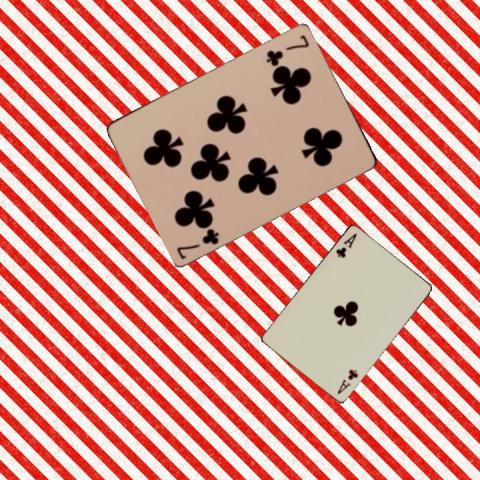7c: (262, 31, 311, 66), (173, 225, 221, 260)
Ac: (334, 367, 359, 396), (333, 231, 358, 259)
